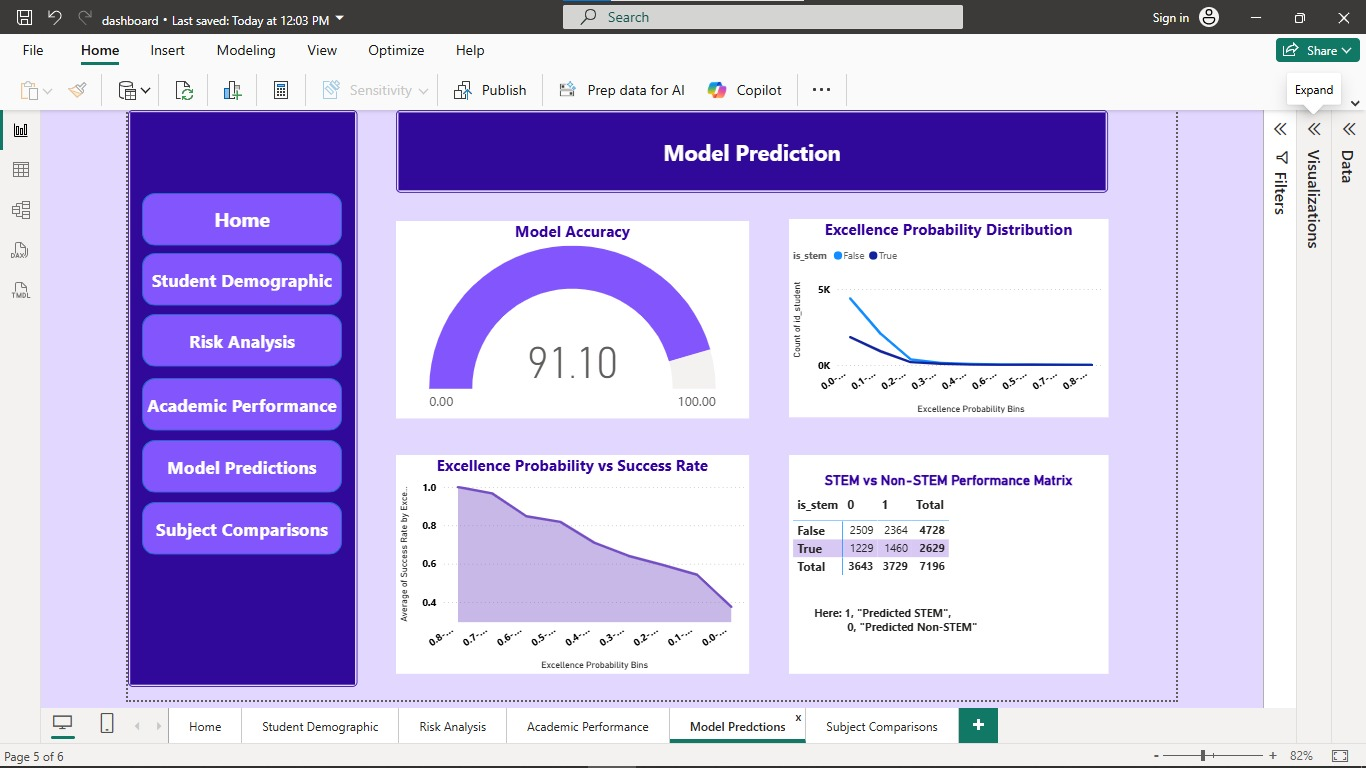

The page's visual inventory and layout, read from the dashboard file:
{"tool":"powerbi","page":{"name":"Model Predctions ","canvas":[1280,720],"ordinal":4},"visuals":[{"type":"shape","box":[0,0,280,704.3],"z":0},{"type":"shape","box":[326.7,0,869.3,101.3],"z":1000},{"type":"gauge","title":"Model Accuracy","fields":{"Y":["Sum(summary_stats.value)"]},"box":[327.6,134.9,430.8,240.9],"z":2000},{"type":"lineChart","title":"Excellence Probability Distribution ","fields":{"Series":["comprehensive_data.is_stem"],"Y":["CountNonNull(comprehensive_data.id_student)"],"Category":["comprehensive_data.Excellence Probability Bins"]},"box":[806.5,133.5,389.5,242.2],"z":3000},{"type":"areaChart","title":"Excellence Probability vs Success Rate","fields":{"Category":["comprehensive_data.Excellence Probability Bins"],"Y":["Avg(comprehensive_data.Success Rate by Excellence Probability)"]},"box":[327.6,421.2,430.8,267],"z":4000},{"type":"shape","box":[17.1,101.4,244.3,64.3],"z":5000},{"type":"shape","box":[17.1,174.3,244.3,64.3],"z":6000},{"type":"shape","box":[17.1,478.6,244.3,64.3],"z":7000},{"type":"shape","box":[17.1,402.9,244.3,64.3],"z":8000},{"type":"shape","box":[17.1,327.1,244.3,64.3],"z":9000},{"type":"shape","box":[17.1,248.6,244.3,64.3],"z":10000},{"type":"pivotTable","title":"STEM vs Non-STEM Performance Matrix","fields":{"Rows":["comprehensive_data.is_stem"],"Columns":["comprehensive_data.predicted_success"],"Values":["Count(comprehensive_data.id_student)"]},"box":[806.5,421.2,389.5,267],"z":11000},{"type":"textbox","box":[817.5,598.7,260.1,74.3],"z":12000}]}

Visuals, with their boxes on the page's 1280x720 design canvas (x1, y1, x2, y2). These are canvas units, not pixel positions in the 1366x768 screenshot, which may show the page scaled, cropped or inside an application window:
shape: [x1=0, y1=0, x2=280, y2=704]
shape: [x1=327, y1=0, x2=1196, y2=101]
"Model Accuracy" gauge: [x1=328, y1=135, x2=758, y2=376]
"Excellence Probability Distribution " lineChart: [x1=806, y1=134, x2=1196, y2=376]
"Excellence Probability vs Success Rate" areaChart: [x1=328, y1=421, x2=758, y2=688]
shape: [x1=17, y1=101, x2=261, y2=166]
shape: [x1=17, y1=174, x2=261, y2=239]
shape: [x1=17, y1=479, x2=261, y2=543]
shape: [x1=17, y1=403, x2=261, y2=467]
shape: [x1=17, y1=327, x2=261, y2=391]
shape: [x1=17, y1=249, x2=261, y2=313]
"STEM vs Non-STEM Performance Matrix" pivotTable: [x1=806, y1=421, x2=1196, y2=688]
textbox: [x1=818, y1=599, x2=1078, y2=673]
